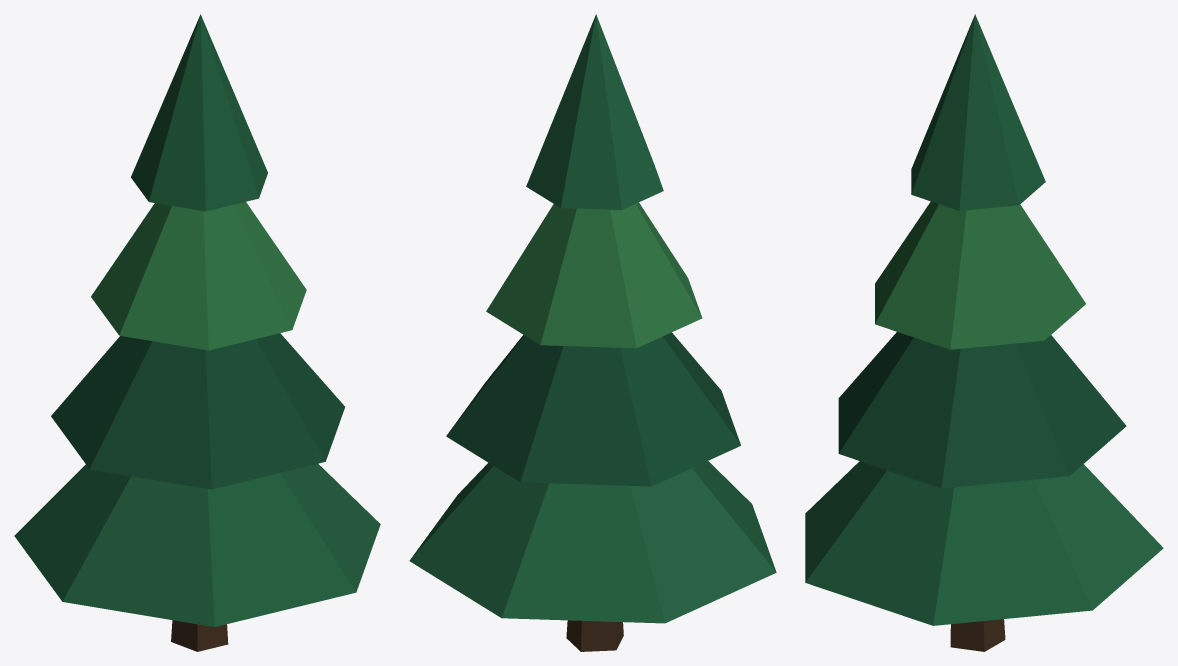
File: Scatter_Pine.fbx
3 views of the same model, side by side, from view 1: azimuth 30°, elevation 25°; view 2: azimuth 150°, elevation 25°; view 3: azimuth 270°, elevation 25° (orthographic).
Visible parts, largest first — view 1: Pine; view 2: Pine; view 3: Pine.
Part boxes in pixels (x1,y1,x2,y2): Pine: (14, 14, 380, 651); Pine: (409, 14, 776, 651); Pine: (805, 14, 1163, 651).
Size of the model in its own units: 10.92 by 20.5 by 10.65.
